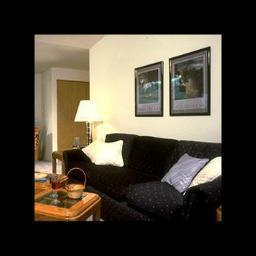Puerta: (56, 82, 87, 150)
